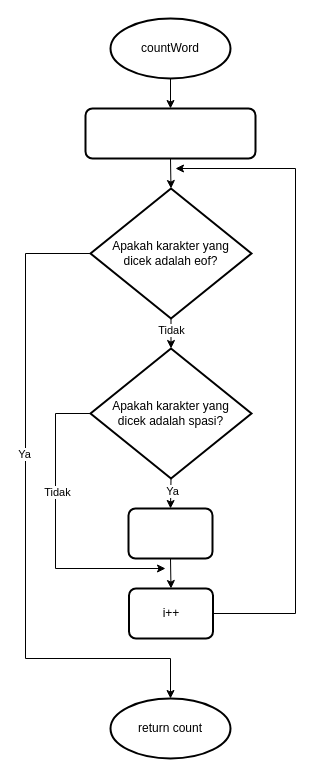
The diagram is 321 pixels wide and 776 high, and some of its shapes have lost their labels. Here are the shapes that lost their labels. From the top down, the box of each, then its label:
(84, 107, 256, 159): deklarasi variabel lokal i = 0 dan count = 1
(127, 507, 213, 559): count++
